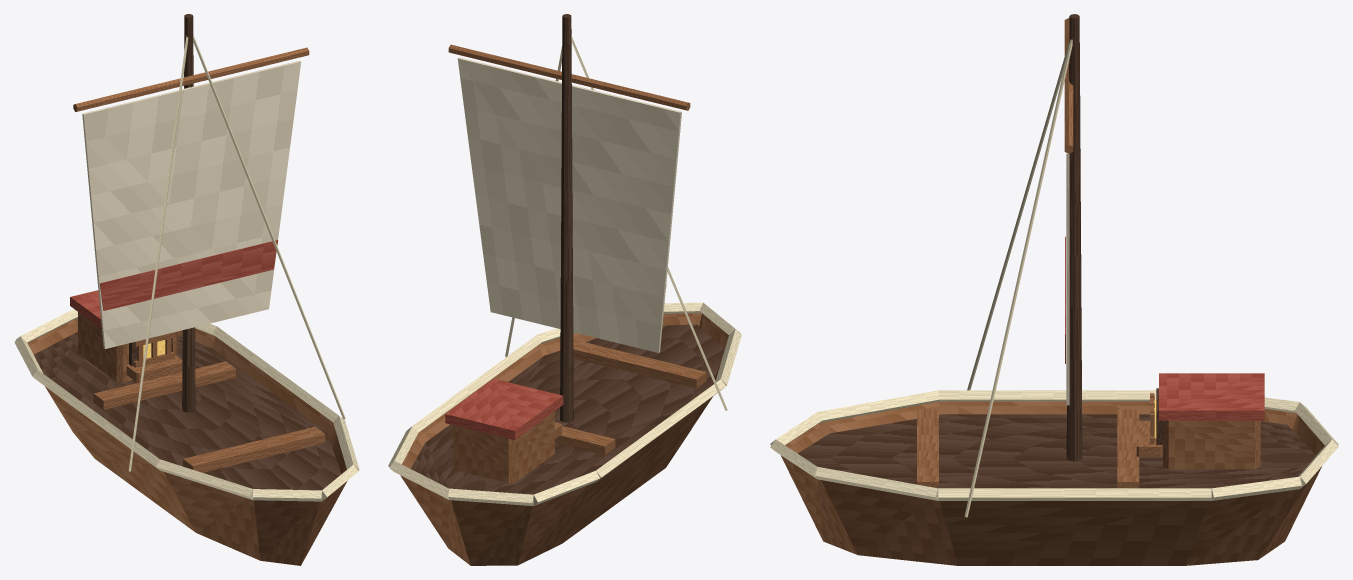
Rendered from Bateau_De_Peche.glb.
3 views of the same model, side by side, from view 1: azimuth 30°, elevation 25°; view 2: azimuth 150°, elevation 25°; view 3: azimuth 270°, elevation 25° (orthographic). The views are drawn at different scales.
Parts seen in each view (by area): view 1: Structure; view 2: Structure; view 3: Structure.
Part boxes in pixels (x1,y1,x2,y2): Structure: (14, 14, 359, 565); Structure: (388, 14, 741, 565); Structure: (770, 14, 1338, 565).
Size of the model in its own units: 3.24 by 6.25 by 6.13.
Materials: 2 (2 with a texture image).
